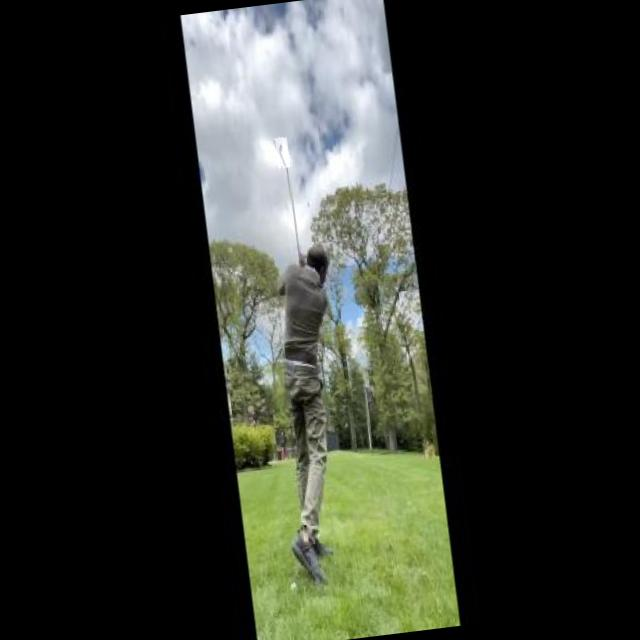club head: (274, 137, 290, 168)
